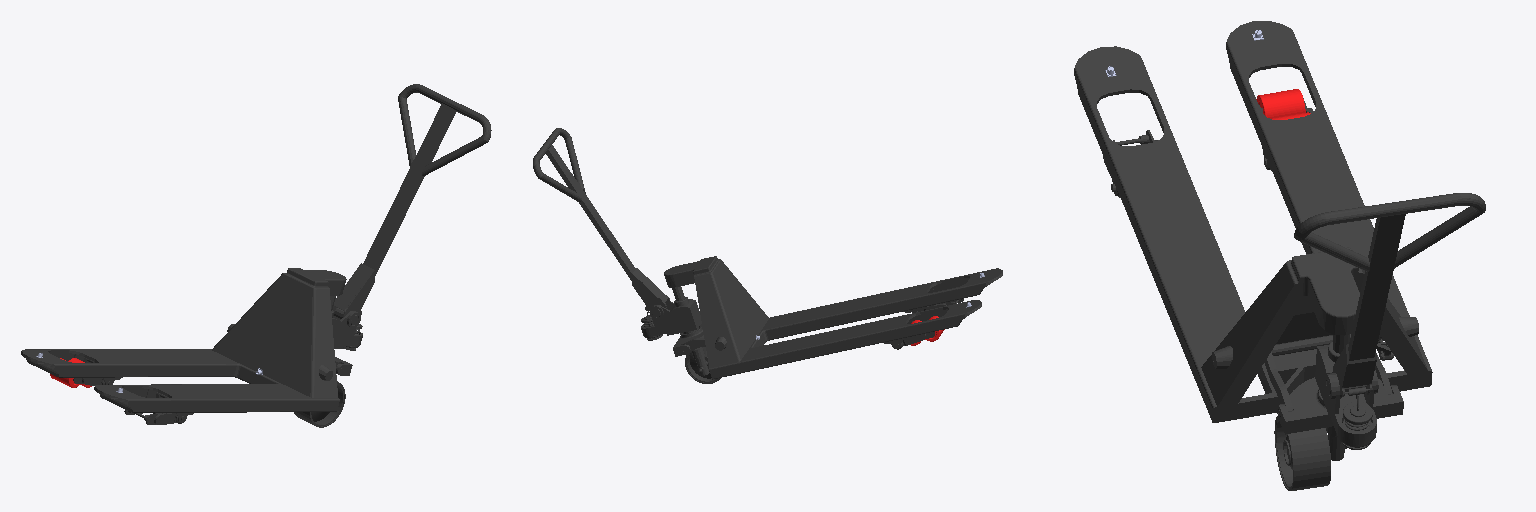
URDF robot description (pallet_truck_ultrasonic):
<?xml version="1.0" encoding="utf-8"?>
<!-- This URDF was automatically created by SolidWorks to URDF Exporter! Originally created by [author] ([email redacted]) 
     Commit Version: 1.6.0-4-g7f85cfe  Build Version: 1.6.7995.38578
     For more information, please see http://wiki.ros.org/sw_urdf_exporter -->
<robot
  name="pallet_truck_ultrasonic">
  <link
    name="base_link">
    <inertial>
      <origin
        xyz="-0.51723 1.5338 0.375"
        rpy="0 0 0" />
      <mass
        value="21.942" />
      <inertia
        ixx="0.75222"
        ixy="0.050252"
        ixz="0.37049"
        iyy="2.1321"
        iyz="-0.0083418"
        izz="1.9233" />
    </inertial>
    <visual>
      <origin
        xyz="0 0 0"
        rpy="0 0 0" />
      <geometry>
        <mesh
          filename="package://pallet_truck_ultrasonic/meshes/base_link.STL" />
      </geometry>
      <material
        name="">
        <color
          rgba="0.29804 0.29804 0.29804 1" />
      </material>
    </visual>
    <collision>
      <origin
        xyz="0 0 0"
        rpy="0 0 0" />
      <geometry>
        <mesh
          filename="package://pallet_truck_ultrasonic/meshes/base_link.STL" />
      </geometry>
    </collision>
  </link>
  <link
    name="left_wheel">
    <inertial>
      <origin
        xyz="0.08 -0.045826 8.9621E-05"
        rpy="0 0 0" />
      <mass
        value="0.42633" />
      <inertia
        ixx="0.00047066"
        ixy="-4.0658E-19"
        ixz="-7.6656E-20"
        iyy="0.00034229"
        iyz="-1.7025E-19"
        izz="0.00047066" />
    </inertial>
    <visual>
      <origin
        xyz="0 0 0"
        rpy="0 0 0" />
      <geometry>
        <mesh
          filename="package://pallet_truck_ultrasonic/meshes/left_wheel.STL" />
      </geometry>
      <material
        name="">
        <color
          rgba="1 0.16863 0.16863 1" />
      </material>
    </visual>
    <collision>
      <origin
        xyz="0 0 0"
        rpy="0 0 0" />
      <geometry>
        <mesh
          filename="package://pallet_truck_ultrasonic/meshes/left_wheel.STL" />
      </geometry>
    </collision>
  </link>
  <joint
    name="left_joint"
    type="continuous">
    <origin
      xyz="-1.3501 -0.37262 1.6341"
      rpy="0.056808 0.32641 0.29511" />
    <parent
      link="base_link" />
    <child
      link="left_wheel" />
    <axis
      xyz="0 -1 0" />
  </joint>
  <link
    name="right_wheel">
    <inertial>
      <origin
        xyz="0.00014017 -0.40927 0.023067"
        rpy="0 0 0" />
      <mass
        value="0.42633" />
      <inertia
        ixx="0.00047066"
        ixy="-4.0658E-19"
        ixz="5.5057E-21"
        iyy="0.00034229"
        iyz="1.5585E-19"
        izz="0.00047066" />
    </inertial>
    <visual>
      <origin
        xyz="0 0 0"
        rpy="0 0 0" />
      <geometry>
        <mesh
          filename="package://pallet_truck_ultrasonic/meshes/right_wheel.STL" />
      </geometry>
      <material
        name="">
        <color
          rgba="1 0.16863 0.16863 1" />
      </material>
    </visual>
    <collision>
      <origin
        xyz="0 0 0"
        rpy="0 0 0" />
      <geometry>
        <mesh
          filename="package://pallet_truck_ultrasonic/meshes/right_wheel.STL" />
      </geometry>
    </collision>
  </link>
  <joint
    name="right_joint"
    type="continuous">
    <origin
      xyz="-1.2326 -0.81277 1.5876"
      rpy="-0.056808 -0.32641 -2.8465" />
    <parent
      link="base_link" />
    <child
      link="right_wheel" />
    <axis
      xyz="0 1 0" />
  </joint>
  <link
    name="right_sensor">
    <inertial>
      <origin
        xyz="-0.013286 0.033962 -0.35918"
        rpy="0 0 0" />
      <mass
        value="0.0031408" />
      <inertia
        ixx="1.3272E-07"
        ixy="-4.2905E-09"
        ixz="-2.866E-10"
        iyy="1.3266E-07"
        iyz="2.0268E-09"
        izz="1.2596E-07" />
    </inertial>
    <visual>
      <origin
        xyz="0 0 0"
        rpy="0 0 0" />
      <geometry>
        <mesh
          filename="package://pallet_truck_ultrasonic/meshes/right_sensor.STL" />
      </geometry>
      <material
        name="">
        <color
          rgba="0.79216 0.81961 0.93333 1" />
      </material>
    </visual>
    <collision>
      <origin
        xyz="0 0 0"
        rpy="0 0 0" />
      <geometry>
        <mesh
          filename="package://pallet_truck_ultrasonic/meshes/right_sensor.STL" />
      </geometry>
    </collision>
  </link>
  <joint
    name="right_sens_joint"
    type="fixed">
    <origin
      xyz="-1.3427 -0.80567 1.7296"
      rpy="1.6833 -1.0714 0.17798" />
    <parent
      link="base_link" />
    <child
      link="right_sensor" />
    <axis
      xyz="0 0 0" />
  </joint>
  <link
    name="left_sensor">
    <inertial>
      <origin
        xyz="-0.0011059 -0.036594 0.3593"
        rpy="0 0 0" />
      <mass
        value="0.0031408" />
      <inertia
        ixx="1.3078E-07"
        ixy="8.4035E-10"
        ixz="-3.4489E-09"
        iyy="1.2642E-07"
        iyz="-3.17E-09"
        izz="1.3415E-07" />
    </inertial>
    <visual>
      <origin
        xyz="0 0 0"
        rpy="0 0 0" />
      <geometry>
        <mesh
          filename="package://pallet_truck_ultrasonic/meshes/left_sensor.STL" />
      </geometry>
      <material
        name="">
        <color
          rgba="0.79216 0.81961 0.93333 1" />
      </material>
    </visual>
    <collision>
      <origin
        xyz="0 0 0"
        rpy="0 0 0" />
      <geometry>
        <mesh
          filename="package://pallet_truck_ultrasonic/meshes/left_sensor.STL" />
      </geometry>
    </collision>
  </link>
  <joint
    name="left_sense_joint"
    type="fixed">
    <origin
      xyz="-1.4733 -0.47057 1.7604"
      rpy="1.6833 -1.0714 0.17798" />
    <parent
      link="base_link" />
    <child
      link="left_sensor" />
    <axis
      xyz="0 0 0" />
  </joint>
  <link
    name="center_sensor">
    <inertial>
      <origin
        xyz="-0.0068836 -9.5297E-05 0.0024789"
        rpy="0 0 0" />
      <mass
        value="0.0031408" />
      <inertia
        ixx="1.3394E-07"
        ixy="-1.1424E-09"
        ixz="3.9606E-09"
        iyy="1.2644E-07"
        iyz="-2.5375E-09"
        izz="1.3096E-07" />
    </inertial>
    <visual>
      <origin
        xyz="0 0 0"
        rpy="0 0 0" />
      <geometry>
        <mesh
          filename="package://pallet_truck_ultrasonic/meshes/center_sensor.STL" />
      </geometry>
      <material
        name="">
        <color
          rgba="0.79216 0.81961 0.93333 1" />
      </material>
    </visual>
    <collision>
      <origin
        xyz="0 0 0"
        rpy="0 0 0" />
      <geometry>
        <mesh
          filename="package://pallet_truck_ultrasonic/meshes/center_sensor.STL" />
      </geometry>
    </collision>
  </link>
  <joint
    name="center_sense_joint"
    type="fixed">
    <origin
      xyz="-0.53518 -0.3674 1.4251"
      rpy="-0.056808 -0.32641 -2.8465" />
    <parent
      link="base_link" />
    <child
      link="center_sensor" />
    <axis
      xyz="0.27549 0.96052 -0.038786" />
  </joint>
</robot>

--- What the picture shows (computed from the rendered views, not written in the file) ---
3 views of the same robot in one strip: view 1: azimuth 30°, elevation 25°; view 2: azimuth 150°, elevation 25°; view 3: azimuth 270°, elevation 25° (orthographic).
Robot: pallet_truck_ultrasonic — 6 links, 5 joints (2 continuous, 3 fixed); root link base_link; default pose: every joint at zero.
Links seen in each view (by area): view 1: base_link; view 2: base_link; view 3: base_link, right_wheel.
Link boxes in pixels (x1,y1,x2,y2): base_link: [21, 84, 491, 427]; base_link: [533, 128, 1002, 383]; base_link: [1074, 21, 1485, 490]; right_wheel: [1256, 89, 1305, 118].
Bounding box of the posed robot: 1.95 × 0.9373 × 1.02 m (x, y, z).
Meshes: 6 distinct files referenced, 6 mesh visuals loaded (6 binary STL).